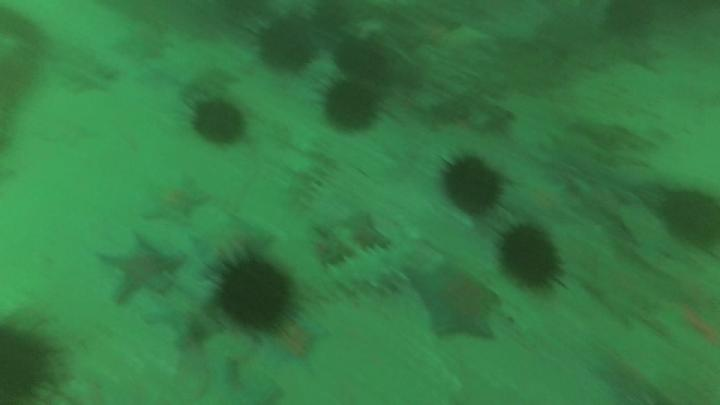echinus: (218, 263, 289, 329), (3, 325, 56, 405), (502, 227, 561, 288), (663, 189, 720, 252), (443, 157, 502, 213), (258, 18, 315, 73), (338, 38, 390, 84), (193, 100, 245, 146), (329, 85, 376, 133)
holothurian: (297, 250, 411, 303), (289, 141, 334, 211)
starfish: (412, 259, 499, 340), (96, 237, 181, 299), (146, 176, 205, 223)
